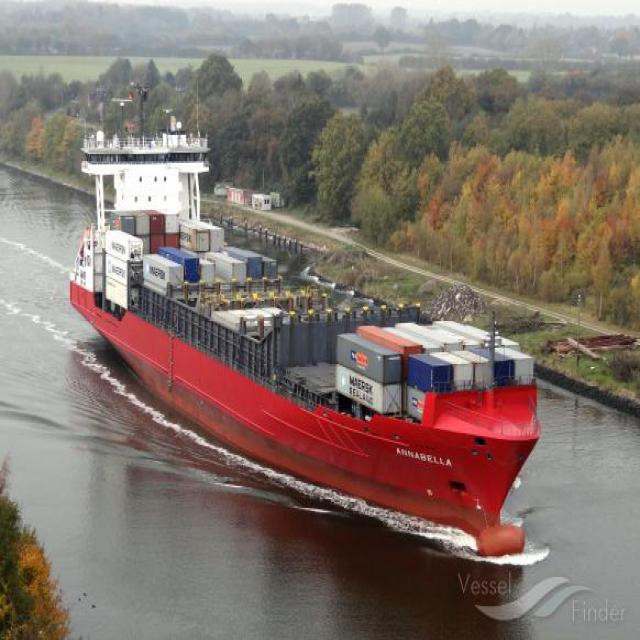Container Ship: (70, 101, 548, 560)
